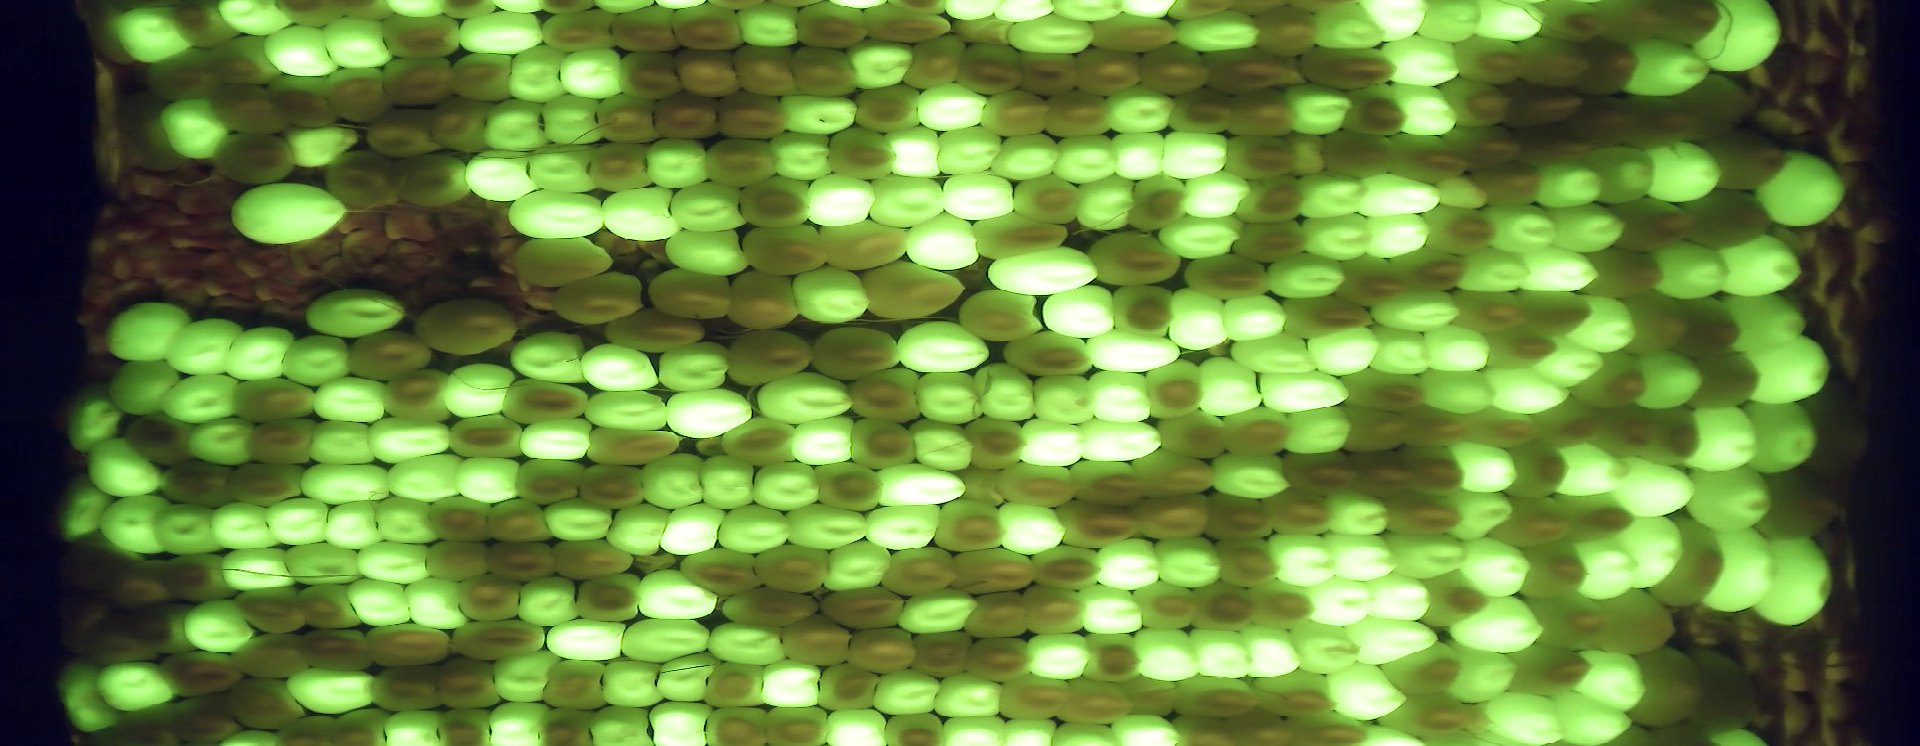fluorescent: (227, 178, 350, 249), (1757, 146, 1853, 236), (1755, 530, 1836, 635), (1702, 521, 1785, 619), (980, 236, 1107, 296), (1685, 459, 1778, 539), (1738, 333, 1838, 405), (1690, 1, 1785, 76), (1618, 32, 1712, 104), (1450, 590, 1550, 658), (1713, 232, 1806, 304), (96, 298, 193, 366), (1566, 644, 1653, 722), (1608, 454, 1701, 524), (91, 489, 178, 563), (890, 317, 996, 379), (298, 283, 409, 339), (753, 366, 857, 426), (1640, 137, 1727, 208), (1453, 532, 1536, 606), (661, 383, 759, 446), (1322, 659, 1413, 726), (1438, 641, 1529, 707), (1651, 238, 1734, 310), (280, 664, 384, 722), (622, 566, 724, 625), (1741, 401, 1820, 477), (1681, 404, 1761, 479), (1614, 513, 1689, 593), (59, 379, 131, 461), (504, 186, 611, 241), (991, 495, 1078, 562), (49, 655, 122, 735), (1547, 682, 1638, 746), (83, 435, 171, 501), (1720, 292, 1809, 358), (256, 20, 347, 82), (154, 369, 249, 429), (1284, 612, 1367, 681), (1548, 439, 1640, 500), (661, 223, 757, 282), (108, 2, 193, 67), (790, 262, 876, 327), (1478, 196, 1564, 261), (178, 593, 264, 657), (162, 311, 244, 379), (1160, 283, 1234, 356), (869, 459, 973, 512), (1079, 323, 1185, 375), (576, 334, 665, 396), (1255, 365, 1354, 420), (1071, 410, 1171, 465), (506, 326, 591, 390), (1444, 435, 1524, 502), (1520, 236, 1604, 300), (613, 612, 713, 666), (1294, 209, 1385, 268), (460, 145, 547, 206), (1190, 352, 1266, 421), (1583, 142, 1660, 211), (88, 657, 180, 714), (1482, 365, 1577, 420), (53, 467, 118, 548), (862, 171, 949, 232), (748, 452, 831, 514), (156, 94, 233, 162), (1276, 73, 1356, 138), (598, 183, 680, 245), (936, 168, 1022, 227), (895, 581, 982, 639), (1382, 526, 1469, 584), (456, 5, 552, 58), (1371, 285, 1468, 338), (440, 359, 518, 424), (1266, 528, 1344, 593), (1353, 169, 1447, 223), (1318, 528, 1406, 586), (1100, 81, 1184, 141), (912, 366, 992, 430), (107, 356, 186, 420), (309, 372, 394, 431), (1527, 333, 1609, 394), (858, 501, 951, 555), (217, 318, 294, 383), (797, 170, 880, 230), (817, 537, 900, 597), (1261, 247, 1352, 303), (638, 134, 716, 197), (1223, 330, 1322, 380), (913, 77, 993, 140), (901, 211, 981, 273), (381, 448, 469, 505), (972, 356, 1042, 428), (1040, 282, 1120, 343), (1082, 365, 1158, 430), (1565, 537, 1641, 601), (1206, 448, 1296, 503), (1344, 615, 1442, 665), (658, 332, 735, 396), (579, 385, 675, 436), (362, 413, 456, 465), (316, 12, 399, 71), (1000, 9, 1100, 58), (1131, 622, 1205, 688), (1474, 691, 1562, 746), (1089, 534, 1169, 594), (1629, 352, 1709, 412), (1411, 367, 1505, 419), (204, 494, 280, 557), (274, 330, 356, 388), (1157, 211, 1247, 265), (144, 499, 223, 560), (715, 501, 798, 559), (1545, 201, 1632, 256), (294, 461, 397, 507), (1153, 529, 1228, 593), (522, 137, 602, 196), (351, 538, 440, 592), (544, 612, 632, 666), (781, 501, 873, 552), (1020, 625, 1097, 686), (634, 450, 713, 510), (662, 179, 749, 233), (1172, 6, 1262, 58), (278, 538, 369, 589), (1321, 486, 1402, 544), (502, 40, 571, 108), (1046, 130, 1124, 189), (786, 412, 864, 470), (260, 492, 339, 550), (276, 119, 362, 171), (1422, 318, 1499, 377), (1071, 171, 1142, 235), (905, 413, 976, 477), (1571, 294, 1642, 358), (182, 415, 264, 470), (1438, 488, 1521, 541), (448, 452, 528, 508), (342, 575, 416, 635), (489, 646, 563, 706), (1185, 620, 1253, 686), (366, 492, 443, 550), (556, 43, 628, 104), (1294, 168, 1373, 224), (872, 665, 947, 724), (540, 492, 623, 545), (1457, 244, 1533, 301), (400, 572, 469, 636), (479, 96, 549, 158), (691, 452, 760, 514), (1155, 127, 1236, 181), (538, 91, 609, 152), (1307, 2, 1391, 54), (1386, 80, 1460, 138), (703, 617, 789, 668), (1381, 36, 1461, 89), (1307, 325, 1386, 379), (842, 36, 918, 92), (602, 499, 672, 560), (774, 89, 863, 137), (513, 570, 584, 630), (302, 416, 380, 472), (1359, 573, 1436, 628), (934, 121, 1008, 179), (1529, 157, 1608, 211), (1303, 573, 1378, 630), (1275, 404, 1358, 454), (1217, 290, 1289, 348), (1078, 582, 1150, 639), (518, 412, 595, 465), (1363, 322, 1436, 379), (1239, 619, 1303, 684), (880, 122, 948, 184), (216, 545, 298, 595), (989, 129, 1064, 184), (769, 127, 838, 187), (1011, 415, 1087, 469), (658, 501, 729, 559), (928, 669, 1005, 722), (1360, 207, 1436, 260), (1029, 370, 1096, 429), (637, 697, 718, 746), (756, 655, 827, 710), (1409, 1, 1489, 50), (600, 653, 666, 712), (733, 1, 808, 53), (656, 649, 721, 708), (1104, 127, 1172, 184), (1180, 168, 1254, 219), (317, 499, 386, 554), (1471, 1, 1547, 49), (209, 1, 298, 40), (587, 701, 658, 746), (482, 698, 550, 746), (1358, 1, 1431, 44), (819, 707, 896, 746), (1104, 708, 1183, 746), (933, 712, 1016, 746), (377, 706, 447, 746), (1046, 717, 1120, 746), (997, 712, 1057, 746)
nonfluorescent: (1799, 372, 1876, 483), (1651, 514, 1735, 612), (1751, 464, 1844, 550), (407, 290, 522, 358), (111, 86, 191, 183), (1079, 225, 1191, 293), (1689, 646, 1767, 741), (858, 258, 973, 323), (546, 267, 653, 332), (508, 232, 618, 294), (1679, 186, 1780, 254), (1671, 69, 1753, 151), (804, 320, 905, 386), (1630, 646, 1706, 733), (1702, 127, 1798, 196), (1296, 40, 1404, 100), (342, 326, 443, 390), (724, 325, 820, 390), (55, 532, 149, 598), (1613, 87, 1702, 156), (1600, 586, 1680, 661), (644, 262, 740, 325), (1566, 348, 1653, 416), (814, 218, 920, 274), (206, 130, 301, 191), (891, 22, 972, 94), (1528, 588, 1615, 654), (964, 212, 1073, 265), (846, 365, 931, 432), (1081, 6, 1187, 60), (441, 614, 551, 665), (206, 78, 291, 145), (738, 220, 833, 281), (958, 284, 1046, 348), (598, 307, 711, 356), (1003, 327, 1100, 385), (926, 494, 1011, 559), (1331, 367, 1434, 421), (496, 374, 596, 429), (48, 587, 120, 663), (1201, 40, 1291, 102), (1382, 639, 1468, 703), (1573, 246, 1668, 304), (880, 540, 969, 601), (388, 151, 476, 212), (1505, 642, 1597, 701), (1396, 442, 1480, 506), (1447, 32, 1537, 92), (141, 45, 227, 108), (1390, 126, 1476, 189), (227, 372, 323, 428), (676, 544, 767, 603), (380, 9, 470, 67), (722, 266, 804, 331), (361, 619, 456, 675), (1611, 194, 1700, 254), (991, 457, 1089, 511), (76, 609, 160, 671), (156, 454, 240, 517), (264, 69, 347, 132), (716, 584, 823, 633), (580, 423, 687, 472), (1554, 488, 1641, 548), (324, 145, 400, 213), (444, 407, 533, 465), (1685, 350, 1769, 412), (1044, 499, 1147, 549), (814, 582, 912, 635), (1276, 293, 1381, 342), (1586, 399, 1667, 463), (1251, 666, 1342, 723), (944, 546, 1043, 598), (119, 410, 202, 472), (1335, 78, 1413, 143), (1151, 405, 1236, 465), (376, 51, 460, 111), (376, 365, 457, 428), (1513, 284, 1599, 343), (1127, 447, 1220, 501), (1180, 251, 1273, 305), (719, 412, 802, 472), (1417, 198, 1500, 258), (736, 174, 816, 236), (1435, 72, 1515, 135), (1676, 292, 1749, 360), (1619, 292, 1693, 358), (244, 414, 329, 472), (1416, 567, 1491, 632), (1318, 127, 1407, 183), (358, 107, 444, 163), (1498, 80, 1588, 134), (1640, 401, 1708, 472), (1053, 673, 1138, 730), (1009, 171, 1093, 229), (200, 32, 284, 89), (583, 135, 658, 200), (1062, 454, 1153, 507), (219, 458, 311, 511), (572, 567, 648, 631), (1330, 254, 1416, 310), (1526, 396, 1608, 454), (429, 654, 507, 715), (824, 125, 902, 186), (153, 550, 236, 608), (322, 60, 394, 126), (1520, 538, 1592, 604), (775, 612, 855, 673), (702, 132, 781, 192), (1247, 2, 1326, 62), (754, 540, 835, 599), (1439, 122, 1527, 176), (1378, 691, 1479, 737), (1011, 582, 1093, 639), (842, 415, 924, 473), (1224, 83, 1303, 143), (422, 89, 493, 156), (994, 670, 1078, 726), (1200, 489, 1283, 545), (1135, 39, 1218, 96), (1513, 34, 1597, 91), (122, 598, 196, 661), (958, 415, 1037, 474), (1107, 279, 1182, 342), (808, 459, 889, 517), (536, 655, 612, 717), (1491, 495, 1580, 548), (1333, 405, 1419, 459), (1378, 492, 1472, 541), (1573, 34, 1644, 99), (1122, 171, 1194, 235), (973, 88, 1057, 143), (960, 587, 1040, 644), (1183, 578, 1262, 636), (1460, 402, 1547, 454), (1223, 403, 1298, 464), (729, 39, 803, 100), (509, 452, 590, 508), (547, 537, 638, 587), (1276, 447, 1364, 499), (1505, 434, 1570, 503), (1389, 244, 1471, 299), (227, 628, 310, 682), (538, 5, 624, 56), (419, 492, 500, 548), (1141, 358, 1210, 423), (220, 674, 305, 726), (1133, 488, 1217, 540), (1067, 44, 1144, 102), (1343, 446, 1420, 503), (1172, 675, 1262, 724), (1449, 285, 1531, 339), (1160, 83, 1239, 138), (1041, 88, 1120, 143), (1242, 577, 1319, 633), (856, 1, 949, 48), (1220, 130, 1302, 183), (1209, 532, 1282, 590), (711, 88, 791, 142), (1229, 216, 1313, 267), (1260, 486, 1337, 541), (612, 47, 684, 105), (364, 663, 442, 717), (814, 657, 883, 718), (793, 2, 879, 51), (960, 635, 1040, 687), (846, 622, 922, 677), (789, 40, 864, 96), (449, 48, 522, 105), (228, 584, 309, 636), (669, 47, 746, 100), (1562, 93, 1640, 147), (485, 535, 563, 588), (607, 5, 686, 58), (594, 89, 661, 151), (1396, 403, 1478, 453), (168, 1, 242, 56), (480, 494, 555, 549), (955, 38, 1030, 93), (82, 1, 142, 70), (294, 625, 380, 673), (1511, 122, 1597, 170), (1468, 159, 1548, 211), (293, 581, 369, 635), (574, 458, 650, 512), (422, 534, 495, 590), (1030, 539, 1107, 592), (1133, 579, 1210, 632), (1234, 174, 1311, 227), (669, 2, 749, 53), (906, 627, 980, 682), (853, 81, 927, 136), (653, 87, 722, 145), (1649, 1, 1738, 47), (156, 649, 249, 692), (1589, 1, 1671, 49), (698, 657, 770, 710), (1531, 1, 1616, 47), (110, 557, 181, 611), (1080, 631, 1147, 687), (457, 571, 525, 626), (1016, 45, 1084, 100), (171, 693, 239, 746), (1116, 674, 1188, 722), (108, 701, 184, 746), (1288, 707, 1374, 746), (703, 702, 773, 746), (1224, 706, 1300, 746), (760, 704, 834, 746), (324, 704, 396, 746), (433, 703, 501, 746), (536, 706, 600, 746), (879, 709, 949, 746), (1169, 709, 1238, 746), (273, 1, 342, 32)
